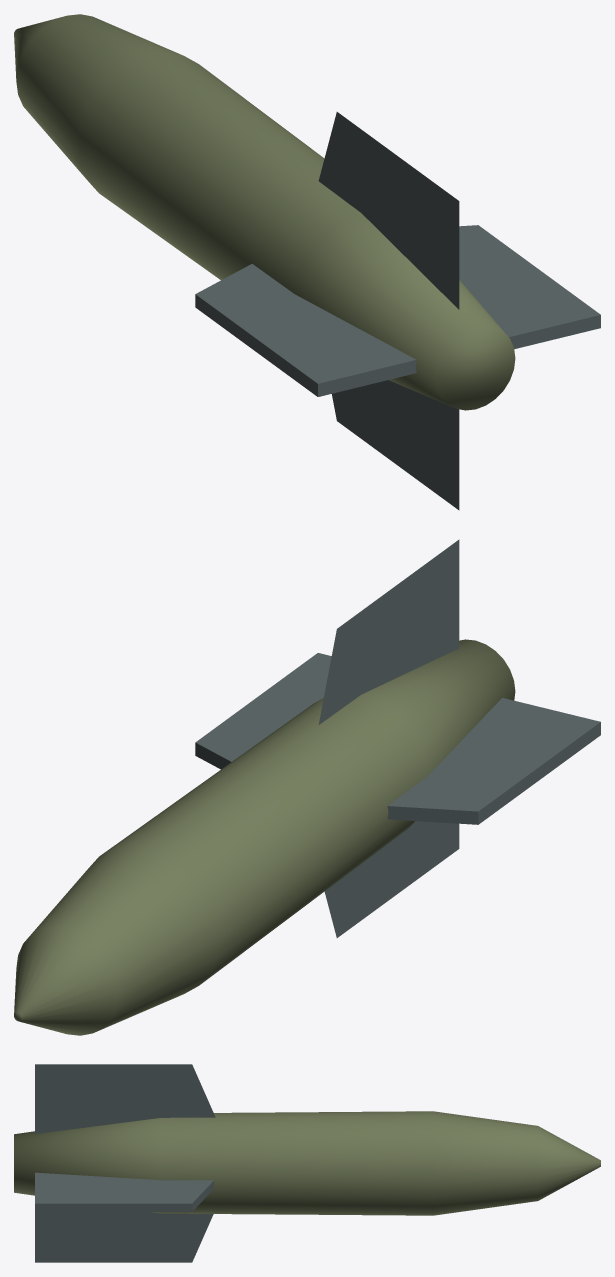
Rendered from practice-bomb.glb.
The picture shows the model from 3 angles, top to bottom: view 1: azimuth 30°, elevation 25°; view 2: azimuth 150°, elevation 25°; view 3: azimuth 270°, elevation 25°; orthographic projection. The views are drawn at different scales.
Parts seen in each view (by area): view 1: Practice bomb, Tail fin.002, Tail fin.001, Tail fin.003, Tail fin; view 2: Practice bomb, Tail fin.002, Tail fin.001, Tail fin.003, Tail fin; view 3: Practice bomb, Tail fin.001, Tail fin.003, Tail fin.
Boxes of the visible parts, x1=… form: Practice bomb: x1=14, y1=14, x2=515, y2=410; Tail fin.002: x1=195, y1=264, x2=416, y2=396; Tail fin.001: x1=318, y1=112, x2=459, y2=309; Tail fin.003: x1=332, y1=380, x2=459, y2=510; Tail fin: x1=459, y1=225, x2=600, y2=349; Practice bomb: x1=14, y1=639, x2=515, y2=1035; Tail fin.002: x1=387, y1=698, x2=600, y2=824; Tail fin.001: x1=318, y1=539, x2=459, y2=724; Tail fin.003: x1=324, y1=821, x2=459, y2=937; Tail fin: x1=195, y1=653, x2=331, y2=769; Practice bomb: x1=14, y1=1111, x2=600, y2=1215; Tail fin.001: x1=35, y1=1064, x2=215, y2=1133; Tail fin.003: x1=35, y1=1212, x2=213, y2=1262; Tail fin: x1=35, y1=1172, x2=213, y2=1211.
Size of the model in its own units: 1 by 1.04 by 2.8.
